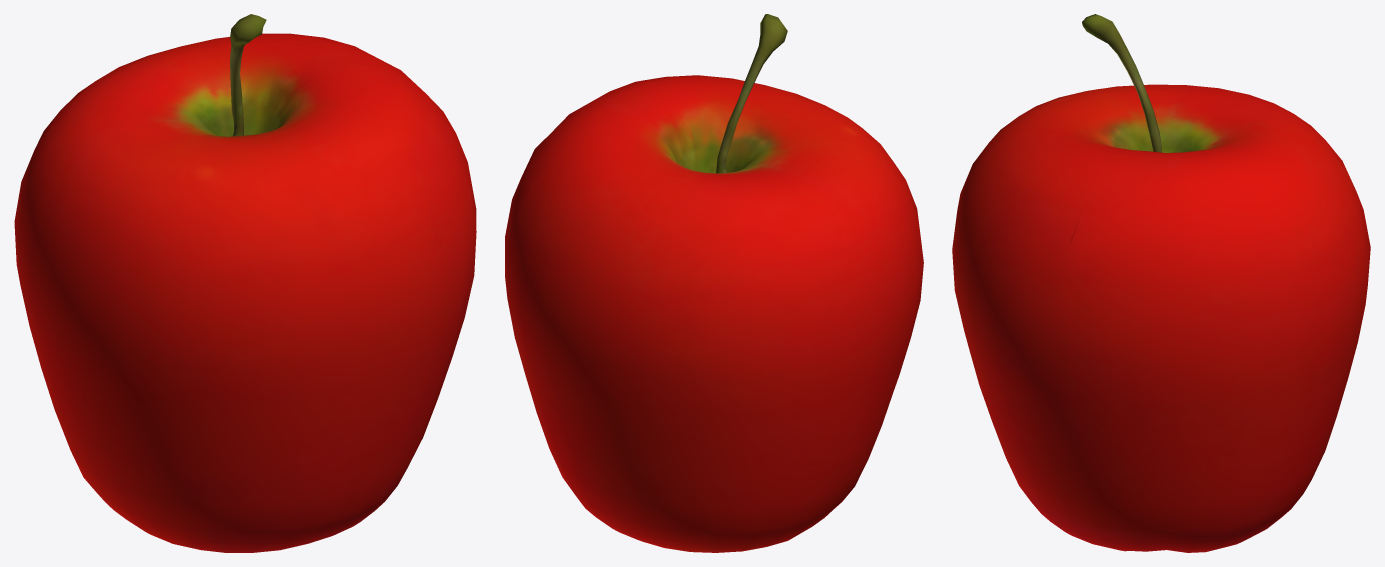
Rendered from suica-apple.glb.
3 renders of one model, left to right at view 1: azimuth 30°, elevation 25°; view 2: azimuth 150°, elevation 25°; view 3: azimuth 270°, elevation 25°, orthographic. The views are drawn at different scales.
Parts seen in each view (by area): view 1: Mesh; view 2: Mesh; view 3: Mesh.
Boxes of the visible parts, bbox=[...] form: Mesh: bbox=[14, 14, 476, 552]; Mesh: bbox=[505, 14, 923, 552]; Mesh: bbox=[952, 14, 1370, 552].
Bounding box in the file's own units: 49.22 × 62.4 × 48.68.
1 material, 1 textured.
